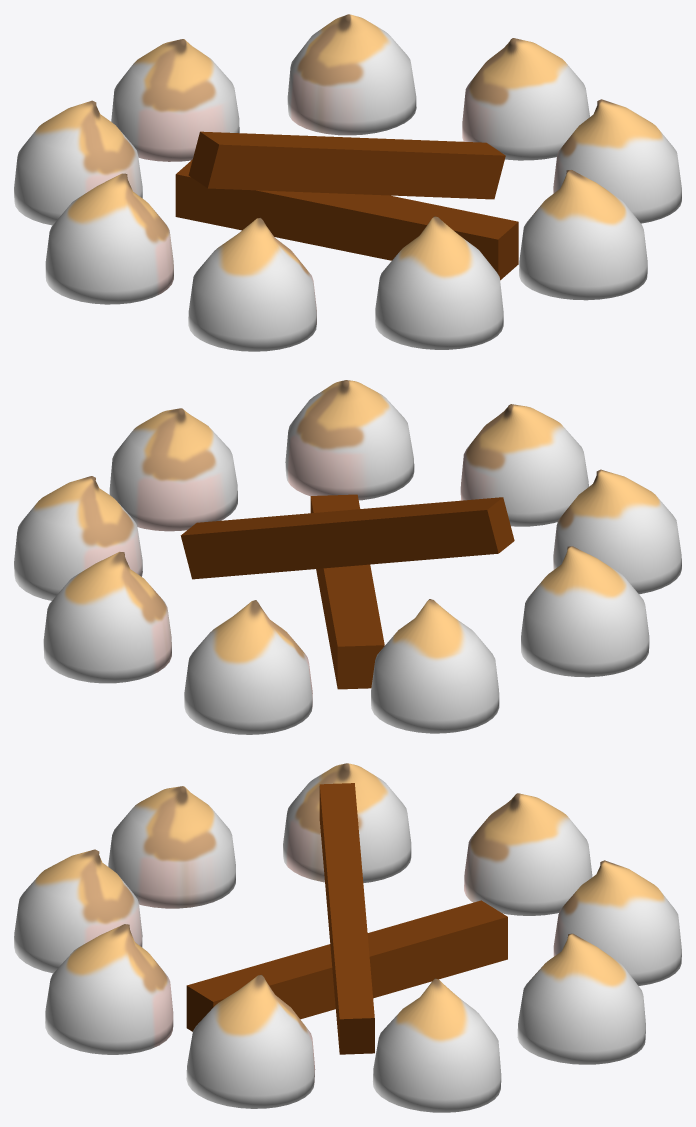
The model's file is Falo_Meringhe.fbx.
The picture shows the model from 3 angles, top to bottom: view 1: azimuth 30°, elevation 25°; view 2: azimuth 150°, elevation 25°; view 3: azimuth 270°, elevation 25°; orthographic projection.
Parts seen in each view (by area): view 1: Cone, Cube.001, Cube; view 2: Cone, Cube.001, Cube; view 3: Cone, Cube, Cube.001.
Boxes of the visible parts, bbox=[...] form: Cone: bbox=[14, 14, 681, 351]; Cube.001: bbox=[188, 131, 505, 199]; Cube: bbox=[175, 159, 518, 280]; Cone: bbox=[14, 380, 681, 734]; Cube.001: bbox=[180, 497, 514, 579]; Cube: bbox=[310, 494, 384, 689]; Cone: bbox=[14, 763, 681, 1112]; Cube: bbox=[186, 900, 507, 1031]; Cube.001: bbox=[319, 783, 374, 1054].
Size of the model in its own units: 247 by 58.24 by 250.
2 materials, 1 textured.
